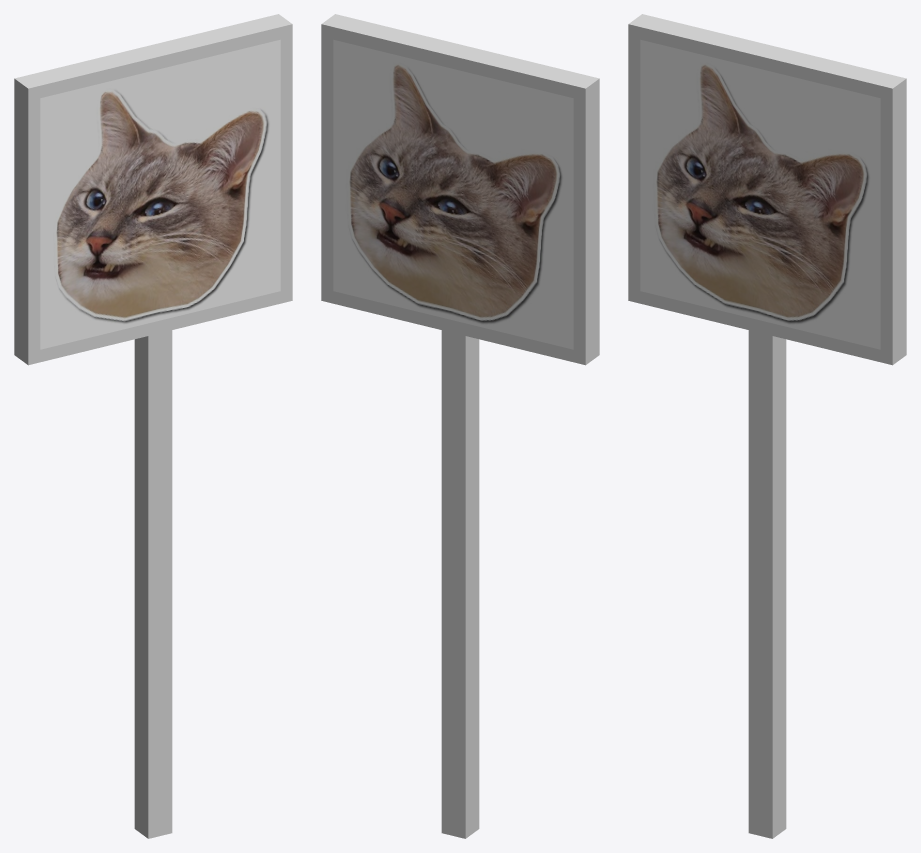
The model's file is aruco_1.fbx.
3 views of the same model, side by side, from view 1: azimuth 30°, elevation 25°; view 2: azimuth 150°, elevation 25°; view 3: azimuth 330°, elevation 25° (orthographic).
Parts seen in each view (by area): view 1: banner; view 2: banner; view 3: banner.
Boxes of the visible parts, x1,y1,x2,y2 form: banner: (14,14,292,838); banner: (321,14,599,838); banner: (628,14,906,838).
Size of the model in its own units: 0.55 by 1.55 by 0.05.
Materials: 2 (1 with a texture image).
